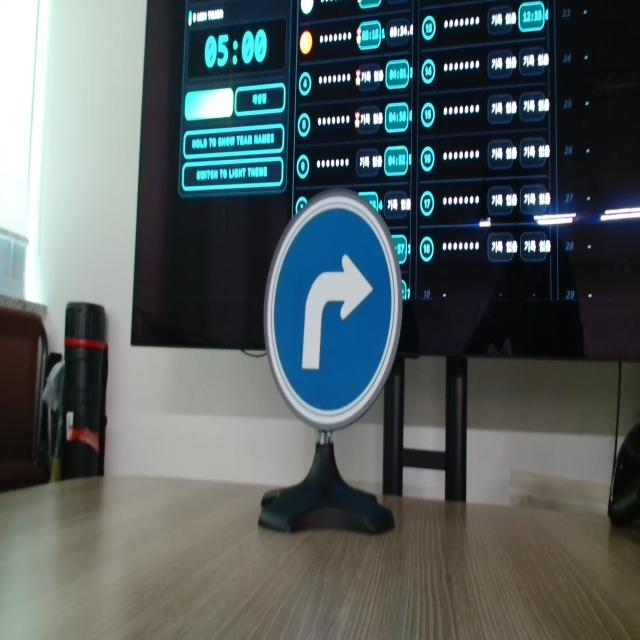right_dierection: (260, 186, 404, 434)
